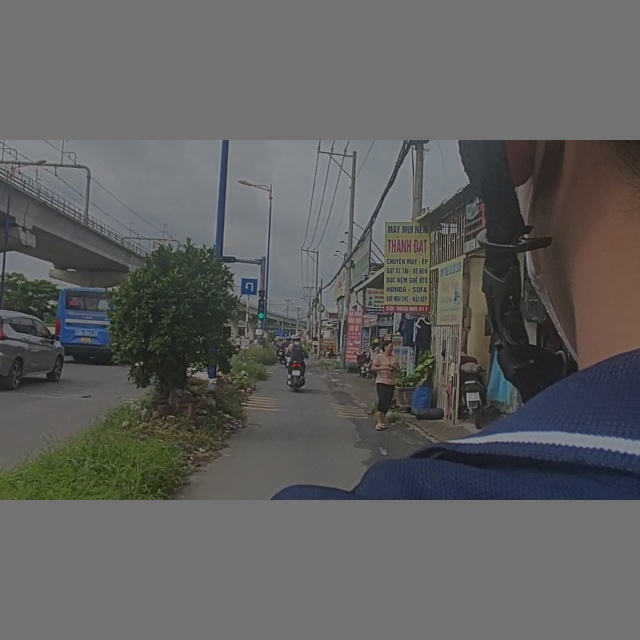I.409: (239, 277, 261, 297)
